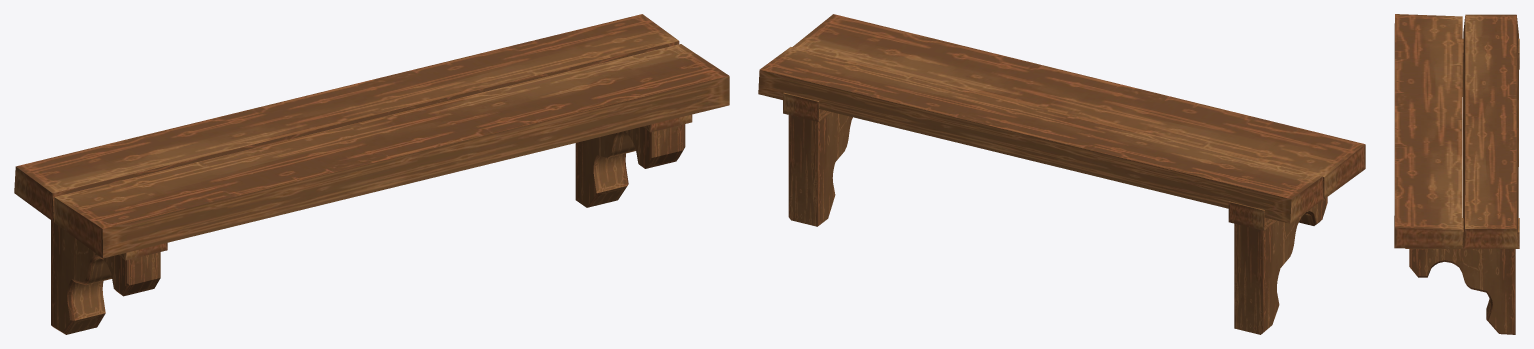
File: Shelf_Simple.gltf
3 views of the same model, side by side, from view 1: azimuth 30°, elevation 25°; view 2: azimuth 150°, elevation 25°; view 3: azimuth 270°, elevation 25° (orthographic). The views are drawn at different scales.
Visible parts, largest first — view 1: Shelf_Simple; view 2: Shelf_Simple; view 3: Shelf_Simple.
Boxes of the visible parts, bbox=[...] form: Shelf_Simple: bbox=[14, 14, 729, 334]; Shelf_Simple: bbox=[758, 14, 1365, 334]; Shelf_Simple: bbox=[1394, 14, 1519, 334].
Bounding box in the file's own units: 1.18 × 0.3087 × 0.2923.
1 material, 1 textured.
